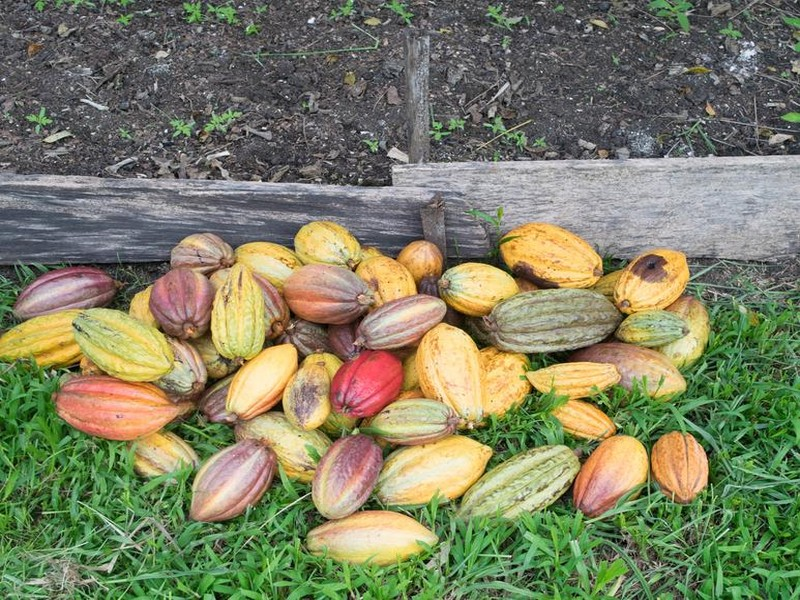Cacaopod: (487, 288, 623, 356), (73, 306, 176, 383), (213, 263, 266, 357)
